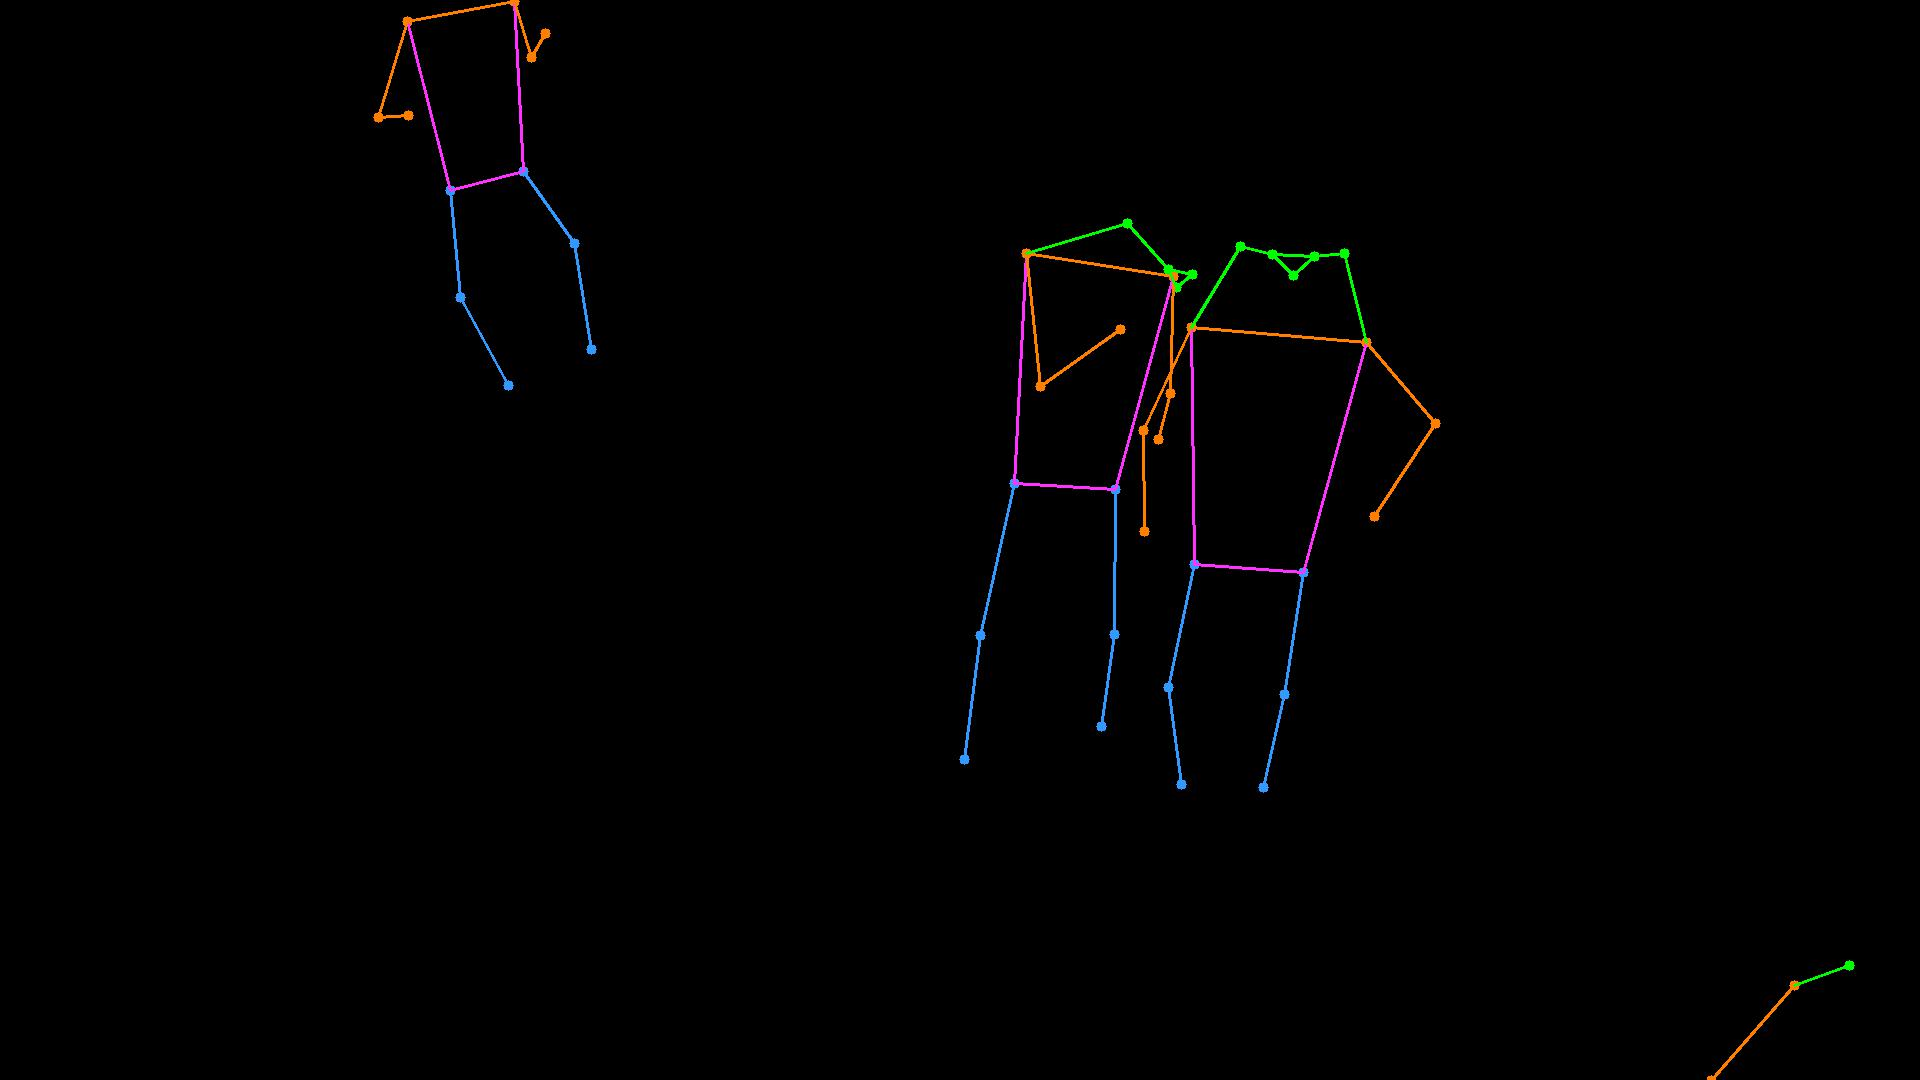normal: (885, 153, 1470, 881)
